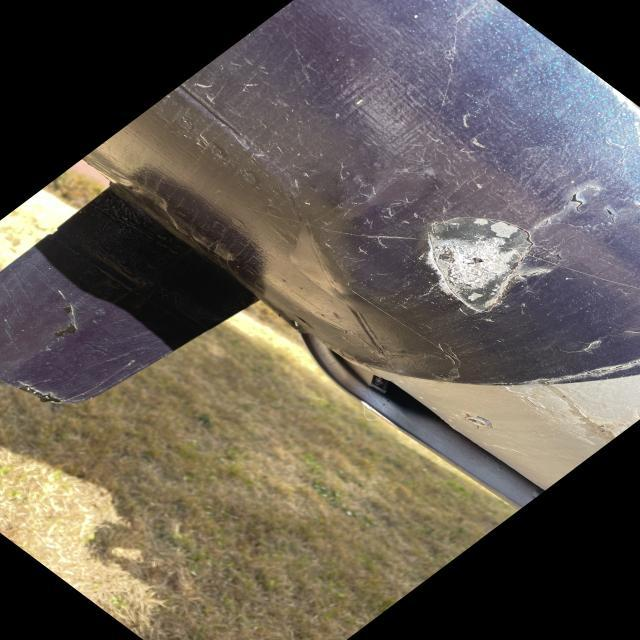crack: (564, 189, 628, 225)
dent: (414, 210, 541, 314)
